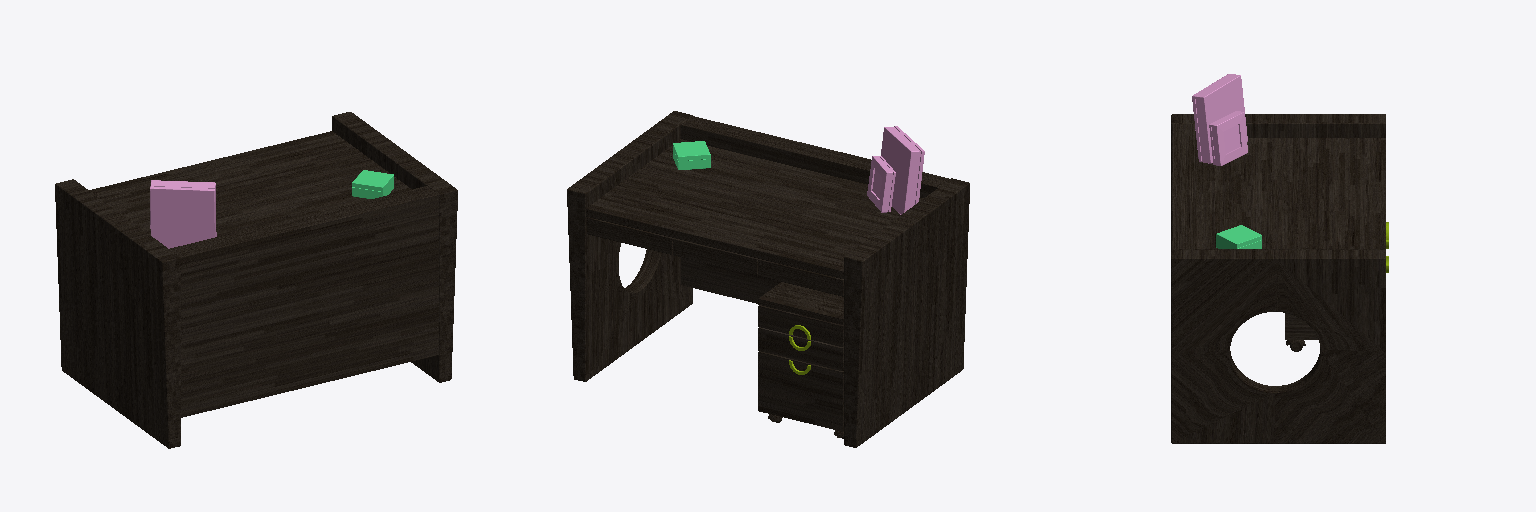
3 renders of one model, left to right at view 1: azimuth 30°, elevation 25°; view 2: azimuth 150°, elevation 25°; view 3: azimuth 270°, elevation 25°, orthographic.
Parts seen in each view (by area): view 1: ChamferBox004, ChamferBox002, ChamferBox003, ChamferBox001, ChamferBox008, ChamferBox007; view 2: ChamferBox002, ChamferBox003, ChamferBox001, ChamferBox006, ChamferBox004, ChamferBox005, ChamferBox008, ChamferBox009, ChamferBox007; view 3: ChamferBox001, ChamferBox003, ChamferBox002, ChamferBox004, ChamferBox008, ChamferBox009, ChamferBox007, ChamferBox006.
Boxes of the visible parts, box(x1,y1,x2,y2) form: ChamferBox004: box(170, 186, 438, 417); ChamferBox002: box(55, 179, 180, 448); ChamferBox003: box(89, 131, 411, 236); ChamferBox001: box(332, 112, 457, 382); ChamferBox008: box(150, 180, 216, 248); ChamferBox007: box(352, 170, 393, 198); ChamferBox002: box(844, 178, 969, 447); ChamferBox003: box(586, 139, 923, 278); ChamferBox001: box(567, 111, 692, 381); ChamferBox006: box(758, 282, 843, 431); ChamferBox004: box(681, 116, 949, 303); ChamferBox005: box(587, 217, 843, 296); ChamferBox008: box(881, 126, 924, 214); ChamferBox009: box(867, 156, 895, 212); ChamferBox007: box(673, 141, 710, 169); ChamferBox001: box(1171, 249, 1385, 443); ChamferBox003: box(1197, 138, 1385, 248); ChamferBox002: box(1171, 114, 1385, 249); ChamferBox004: box(1172, 124, 1196, 248); ChamferBox008: box(1192, 74, 1247, 163); ChamferBox009: box(1209, 111, 1247, 165); ChamferBox007: box(1216, 225, 1261, 248); ChamferBox006: box(1285, 313, 1317, 339).
Bounding box in the file's own units: 140 × 108 × 88.65.
8 materials, 1 textured.